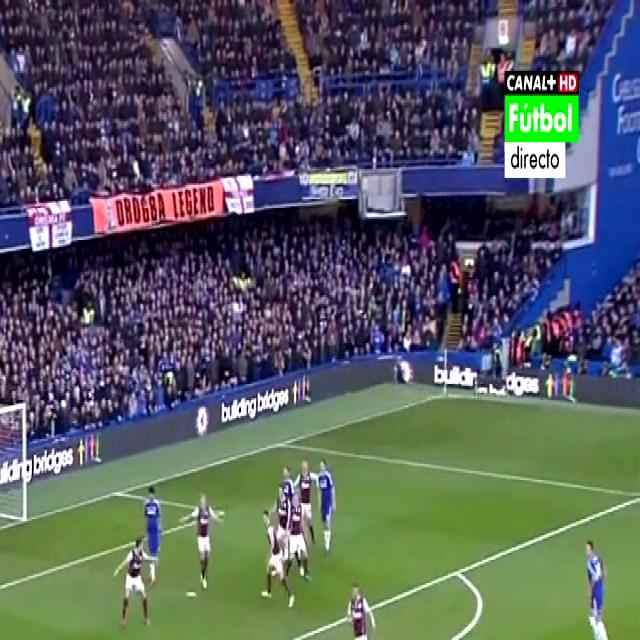soccer-player: (246, 510, 300, 622), (178, 484, 229, 593), (577, 526, 620, 640), (110, 535, 160, 630), (290, 443, 323, 555), (316, 446, 346, 563), (336, 572, 385, 640), (140, 474, 167, 583)
